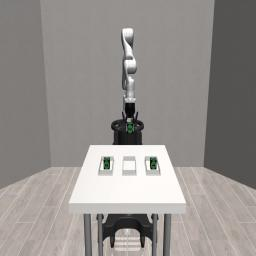cube1: (150, 156, 157, 170)
cube2: (127, 122, 133, 134)
cube3: (103, 157, 110, 169)
